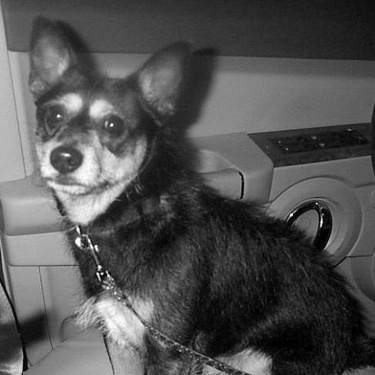dog: (26, 5, 368, 370)
